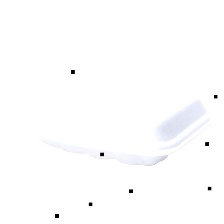foam_box: (0, 70, 224, 171)
